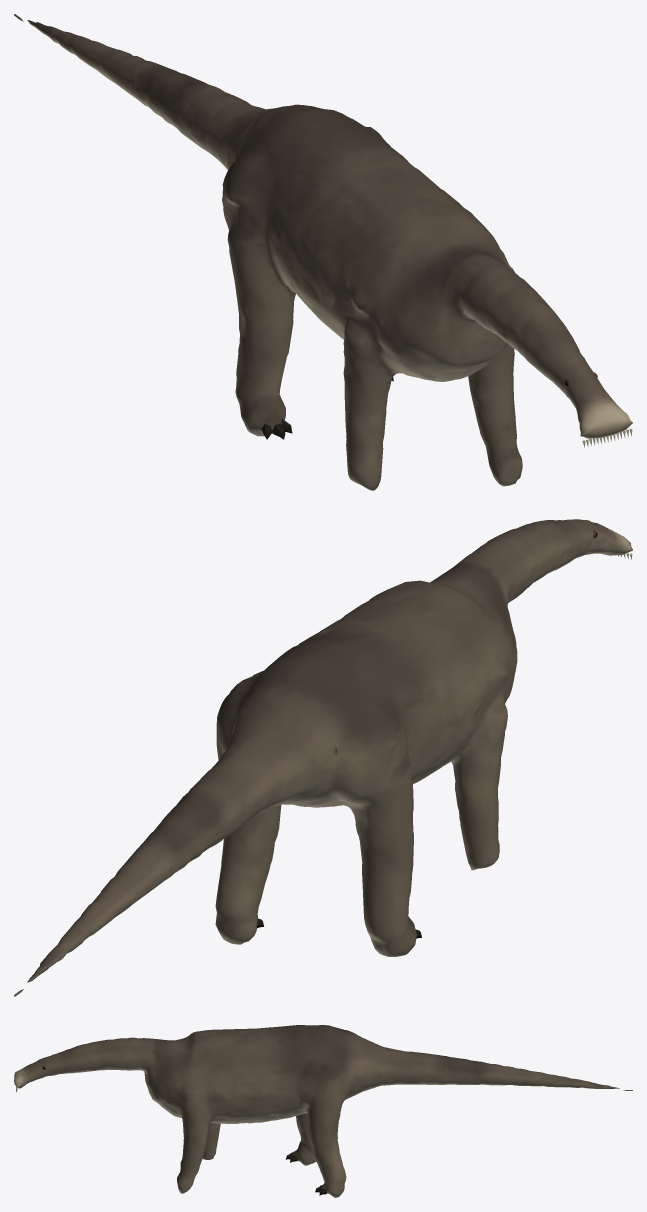
File: Nigersaurus.fbx
The picture shows the model from 3 angles, top to bottom: view 1: azimuth 30°, elevation 25°; view 2: azimuth 150°, elevation 25°; view 3: azimuth 270°, elevation 25°; orthographic projection. The views are drawn at different scales.
Parts seen in each view (by area): view 1: Nigersaurus; view 2: Nigersaurus; view 3: Nigersaurus.
Boxes of the visible parts, <box> form: Nigersaurus: <box>14,14,632,490</box>; Nigersaurus: <box>14,519,632,996</box>; Nigersaurus: <box>14,1025,632,1197</box>.
Bounding box in the file's own units: 0.358 × 0.5733 × 2.11.
